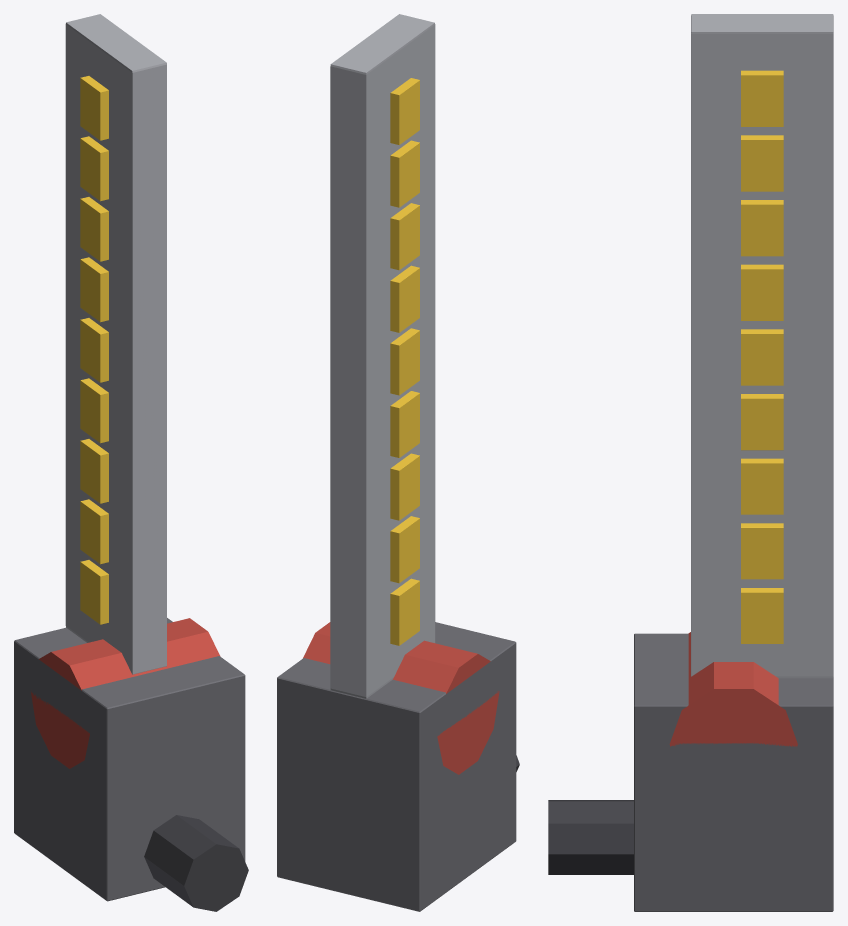
Rendered from ripper-chain.glb.
3 views of the same model, side by side, from view 1: azimuth 30°, elevation 25°; view 2: azimuth 150°, elevation 25°; view 3: azimuth 270°, elevation 25° (orthographic). The views are drawn at different scales.
Visible parts, largest first — view 1: bar, motor, sprocket, grip, tooth3, tooth5, tooth7, tooth8, tooth0, tooth1, tooth4, tooth6 (+1 smaller); view 2: bar, motor, sprocket, tooth1, tooth4, tooth0, tooth2, tooth5, tooth6, tooth3, tooth7, tooth8; view 3: bar, motor, sprocket, grip, tooth1, tooth2, tooth3, tooth4, tooth5, tooth6, tooth7, tooth8 (+1 smaller).
Part boxes in pixels (x1,y1,x2,y2): bar: (65, 14, 166, 674); motor: (14, 618, 245, 901); sprocket: (31, 618, 220, 768); grip: (144, 815, 248, 911); tooth3: (80, 378, 108, 443); tooth5: (80, 257, 108, 322); tooth7: (80, 136, 108, 201); tooth8: (80, 76, 108, 140); tooth0: (80, 560, 108, 624); tooth1: (80, 499, 108, 564); tooth4: (80, 318, 108, 382); tooth6: (80, 197, 108, 261); bar: (330, 14, 435, 698); motor: (277, 622, 516, 911); sprocket: (303, 622, 499, 774); tooth1: (390, 516, 419, 583); tooth4: (390, 328, 419, 395); tooth0: (390, 578, 419, 645); tooth2: (390, 453, 419, 520); tooth5: (390, 265, 419, 332); tooth6: (390, 203, 419, 270); tooth3: (390, 391, 419, 457); tooth7: (390, 140, 419, 207); tooth8: (390, 78, 419, 144); bar: (691, 14, 833, 678); motor: (634, 633, 833, 911); sprocket: (669, 632, 797, 746); grip: (548, 800, 633, 874); tooth1: (741, 523, 783, 579); tooth2: (741, 458, 783, 514); tooth3: (741, 394, 783, 450); tooth4: (741, 329, 783, 385); tooth5: (741, 264, 783, 320); tooth6: (741, 200, 783, 256); tooth7: (741, 135, 783, 191); tooth8: (741, 70, 783, 126).
Bounding box in the file's own units: 0.12 × 0.66 × 0.2.
